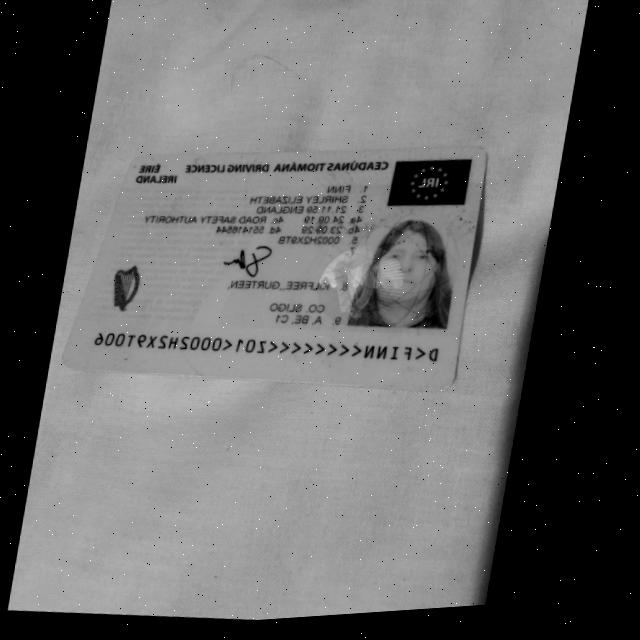card: (63, 148, 484, 390)
